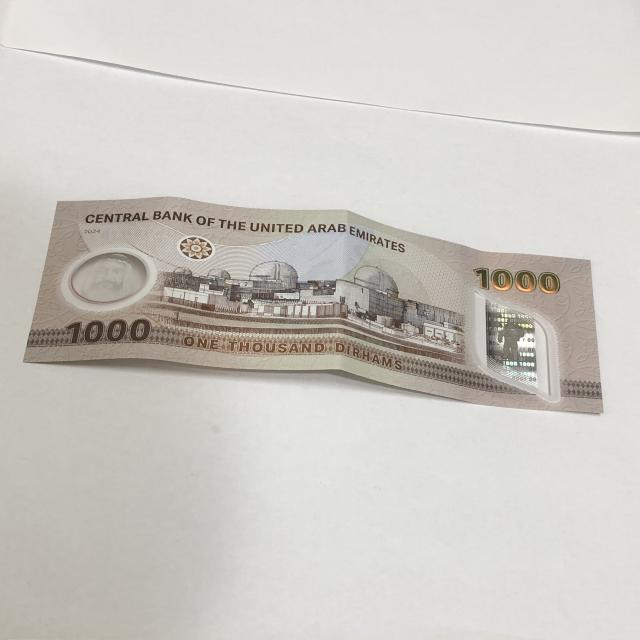1000_AED: (22, 195, 609, 414)
